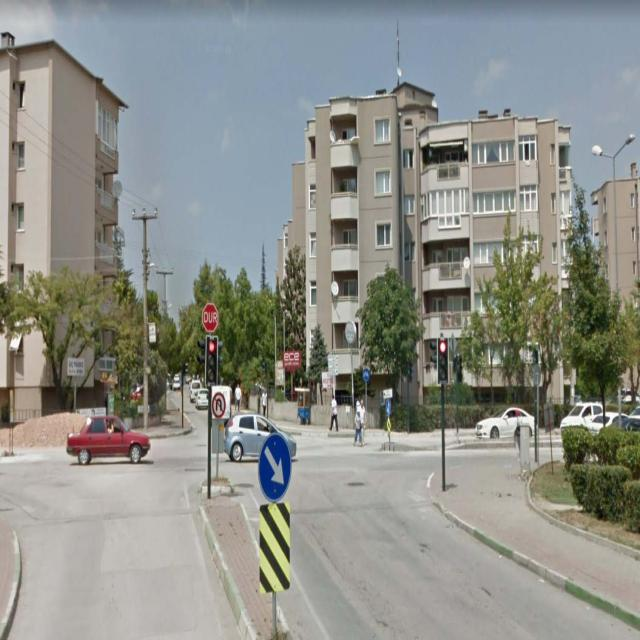dur: (202, 304, 218, 331)
kirmizi: (206, 335, 218, 386), (438, 338, 448, 383)
